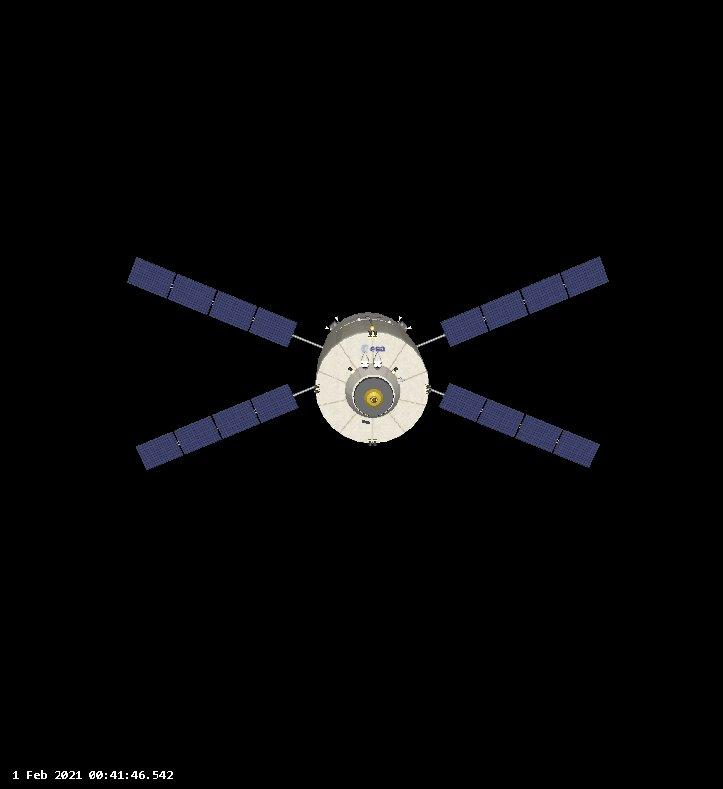body: (313, 314, 430, 449)
solar: (438, 253, 615, 350), (124, 255, 300, 350), (134, 381, 302, 473), (437, 380, 605, 471)
thruster: (424, 388, 435, 395), (372, 329, 380, 338), (404, 325, 415, 331), (372, 439, 379, 448), (312, 389, 322, 395), (333, 315, 340, 323), (371, 397, 379, 404), (397, 314, 403, 323), (313, 383, 320, 390), (323, 325, 331, 331), (368, 329, 374, 337), (426, 384, 433, 390), (368, 440, 373, 447)
